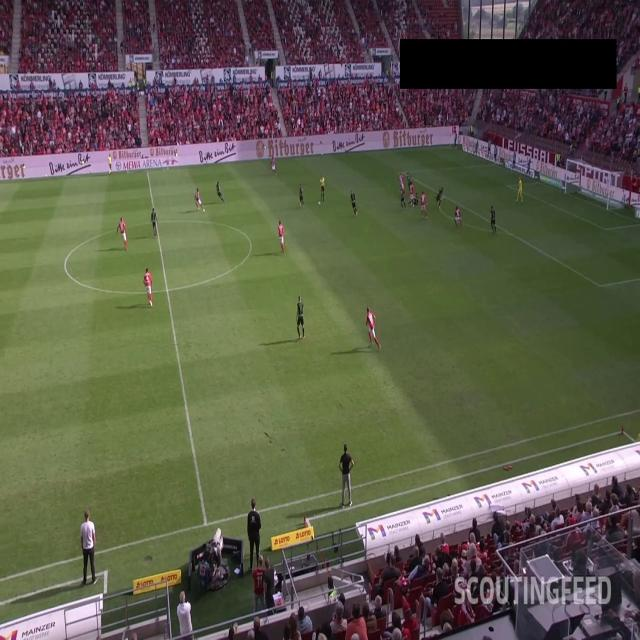ball: (318, 200, 321, 206)
team1: (296, 296, 306, 341), (150, 208, 158, 238), (216, 180, 225, 205), (489, 206, 497, 234), (434, 186, 443, 210), (298, 182, 306, 208), (350, 189, 357, 216), (398, 187, 406, 210), (409, 192, 420, 206), (406, 171, 412, 193)
team2: (364, 307, 382, 352), (116, 217, 128, 251), (143, 268, 153, 308), (194, 188, 205, 214), (420, 190, 428, 220), (454, 206, 464, 230), (278, 222, 285, 253), (398, 172, 406, 197), (270, 151, 277, 177), (409, 182, 415, 207)
